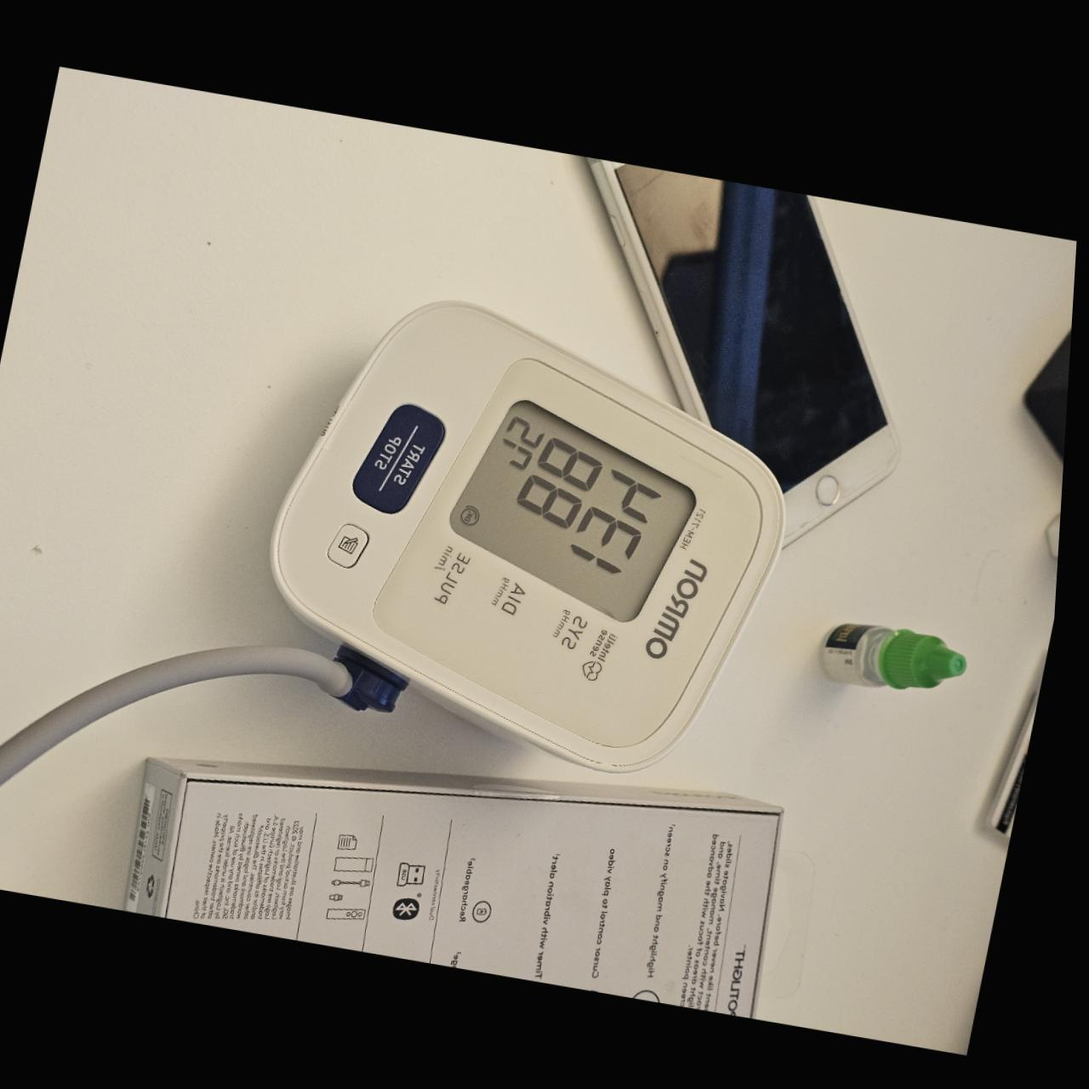blood pressure monitor: (226, 271, 825, 801)
